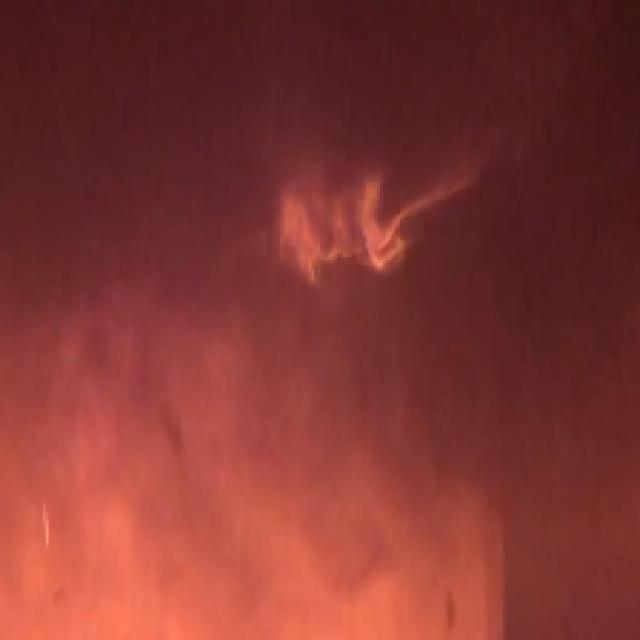Fire: (271, 162, 486, 292)
Smoke: (8, 8, 263, 340), (289, 302, 620, 554), (308, 20, 623, 146)
